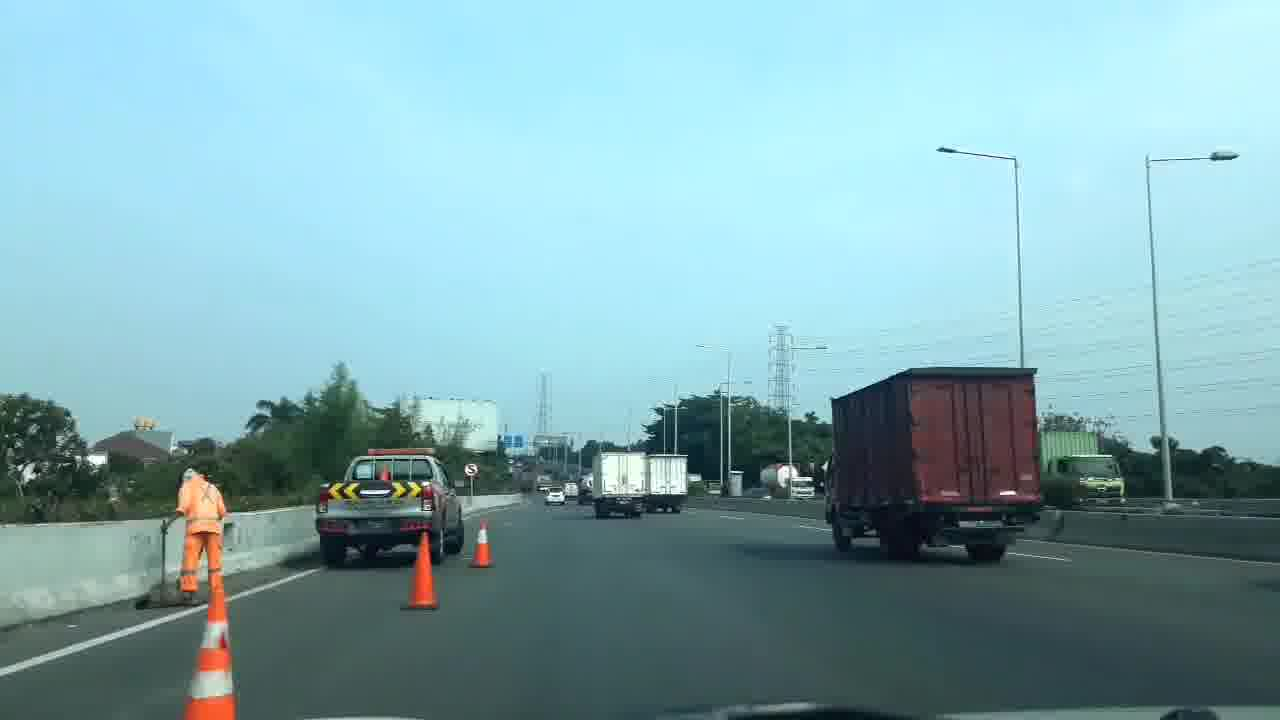plate_positive: (958, 516, 1007, 529)
